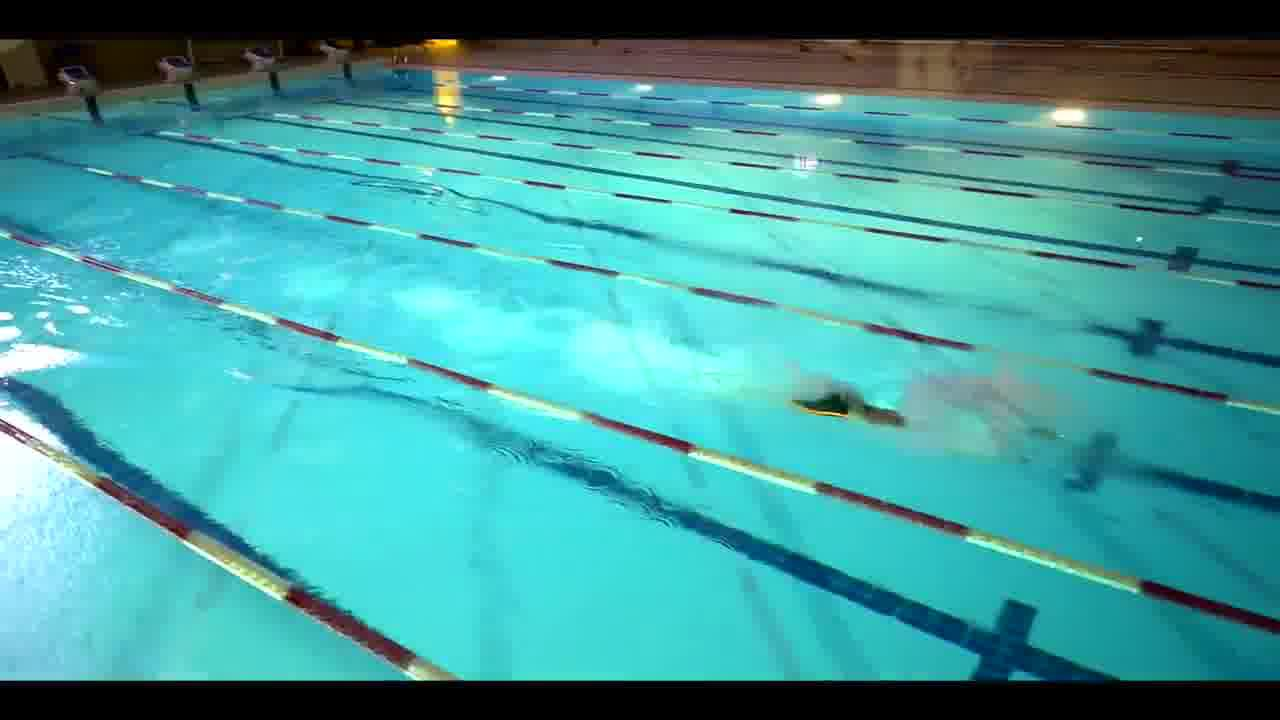swimmer: (777, 348, 933, 448)
